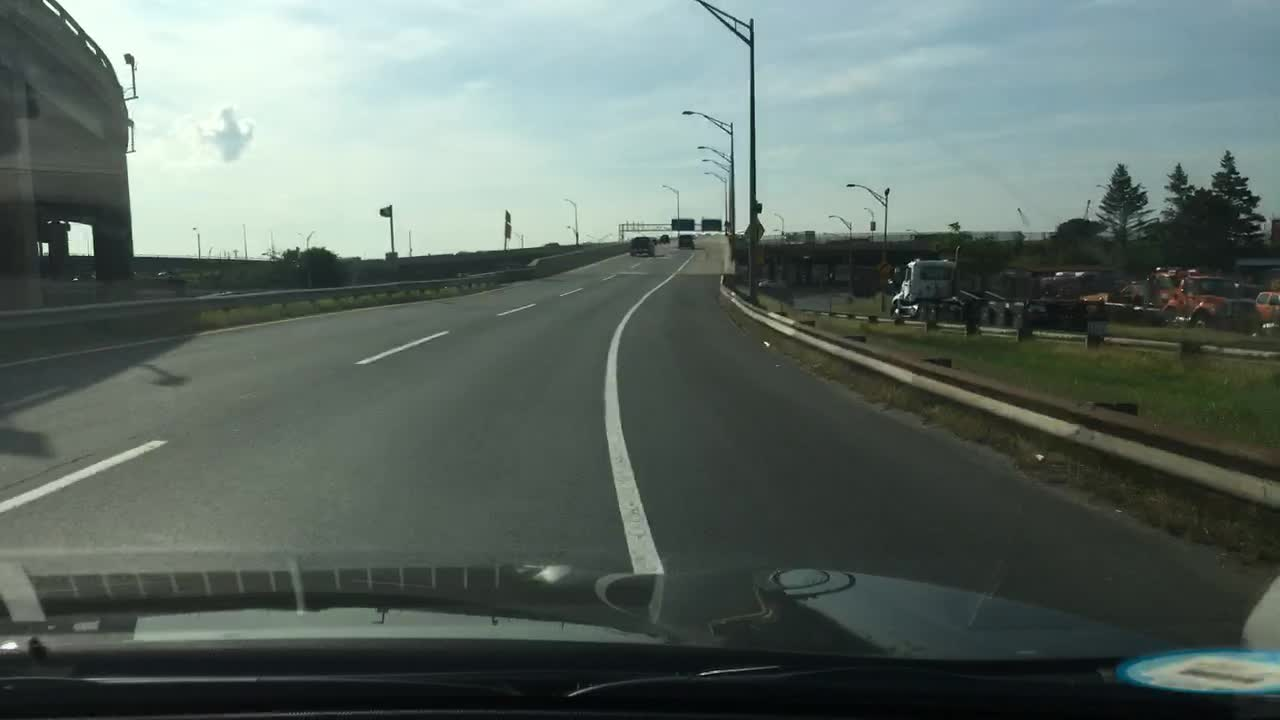bus: (835, 263, 871, 284), (910, 230, 970, 241)
car: (1137, 266, 1193, 311), (1253, 290, 1278, 326), (760, 275, 790, 298), (1053, 284, 1089, 302), (68, 272, 98, 290), (1137, 277, 1155, 307), (1221, 227, 1245, 247), (628, 238, 655, 254), (152, 271, 182, 284), (1119, 281, 1137, 301), (674, 235, 697, 250), (1248, 229, 1265, 247), (1032, 283, 1050, 296), (655, 235, 670, 245), (646, 236, 658, 247)
traffic light: (385, 254, 399, 271)
traffic sign: (742, 217, 766, 245), (700, 218, 719, 233), (875, 260, 890, 278), (670, 218, 692, 230), (812, 260, 826, 278)
truck: (889, 259, 1100, 332), (1164, 275, 1260, 332), (778, 229, 817, 244)
